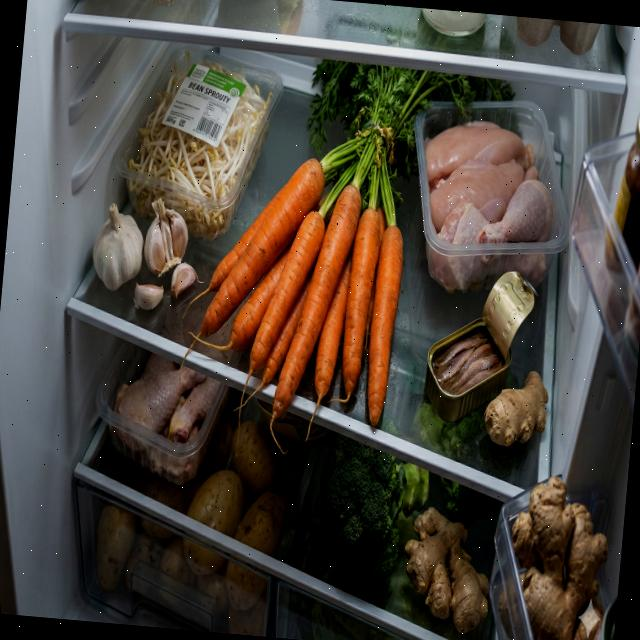bean_sprouts: (122, 48, 276, 245)
brocolli: (311, 429, 434, 588)
carrot: (171, 147, 411, 464)
chicken: (412, 115, 561, 302), (107, 351, 223, 488)
garlic: (88, 192, 202, 314)
ginger: (494, 472, 613, 640), (397, 504, 495, 636), (482, 365, 550, 449)
potato: (88, 408, 304, 638)
